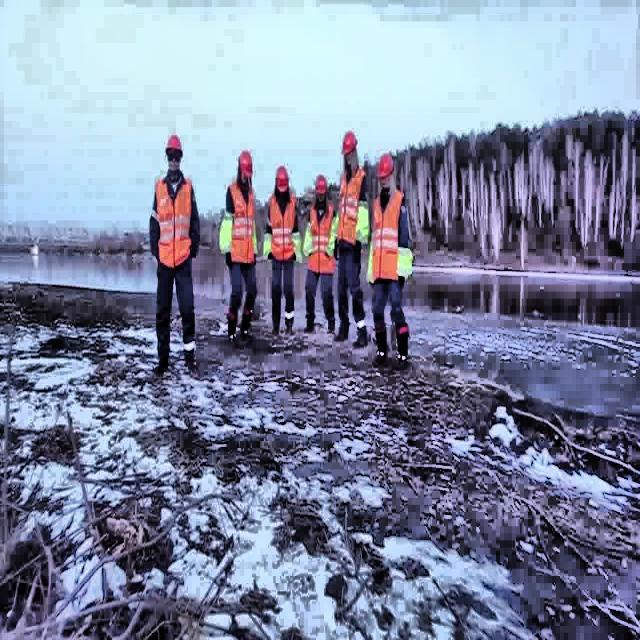safety_helmet: (376, 152, 396, 180), (239, 146, 253, 177), (274, 164, 289, 192), (341, 131, 357, 153), (165, 132, 182, 152), (315, 174, 327, 199)
safety_jacket: (146, 180, 198, 270), (222, 182, 260, 273), (372, 187, 408, 282), (157, 180, 195, 263), (372, 187, 403, 281), (334, 167, 368, 249), (228, 176, 258, 264), (267, 186, 299, 260), (267, 193, 299, 262), (304, 204, 334, 276), (308, 203, 336, 276), (337, 166, 364, 240), (219, 207, 233, 257), (358, 195, 370, 247), (301, 217, 313, 259), (397, 245, 411, 278), (292, 228, 301, 264), (263, 230, 271, 260), (329, 217, 334, 257), (368, 243, 372, 281)
